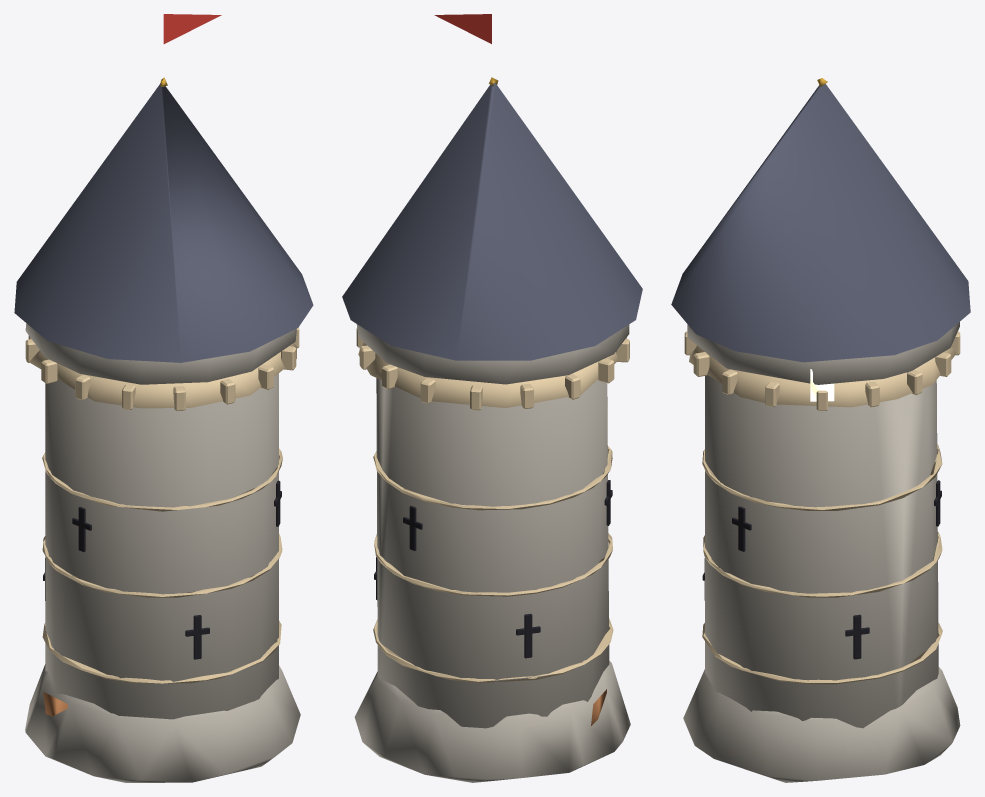
The model's file is castle_tower.glb.
The picture shows the model from 3 angles, left to right: view 1: azimuth 30°, elevation 25°; view 2: azimuth 150°, elevation 25°; view 3: azimuth 270°, elevation 25°; orthographic projection.
Visible parts, largest first — view 1: castle_tower; view 2: castle_tower; view 3: castle_tower.
Boxes of the visible parts, x1,y1,x2,y2 form: castle_tower: (14, 14, 313, 782); castle_tower: (342, 14, 642, 782); castle_tower: (671, 78, 970, 782).
Size of the model in its own units: 10.67 by 28.06 by 10.65.
1 material, 1 textured.
